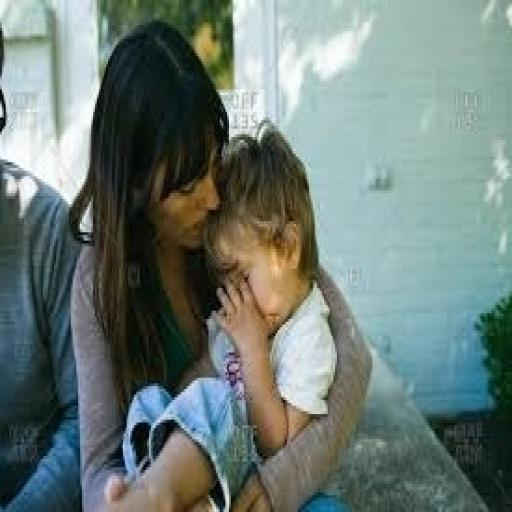hugging: (67, 17, 343, 509)
